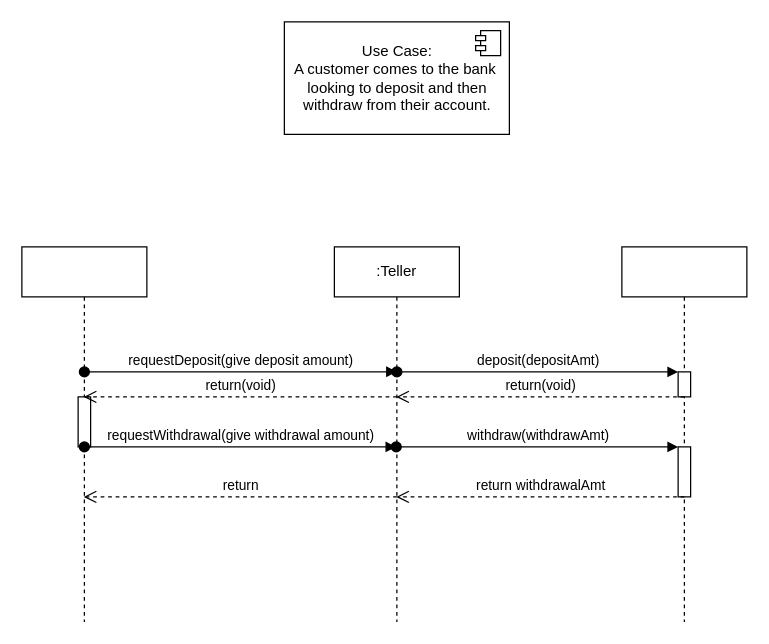
Image size: 769x644. Some labels were removed from this diagram. The shapes that lost their labels are listed below. From the top down, each one's centre as x and y in pixels, then its label:
At point 84,434: ":Customer".
At point 684,434: ":Account".
